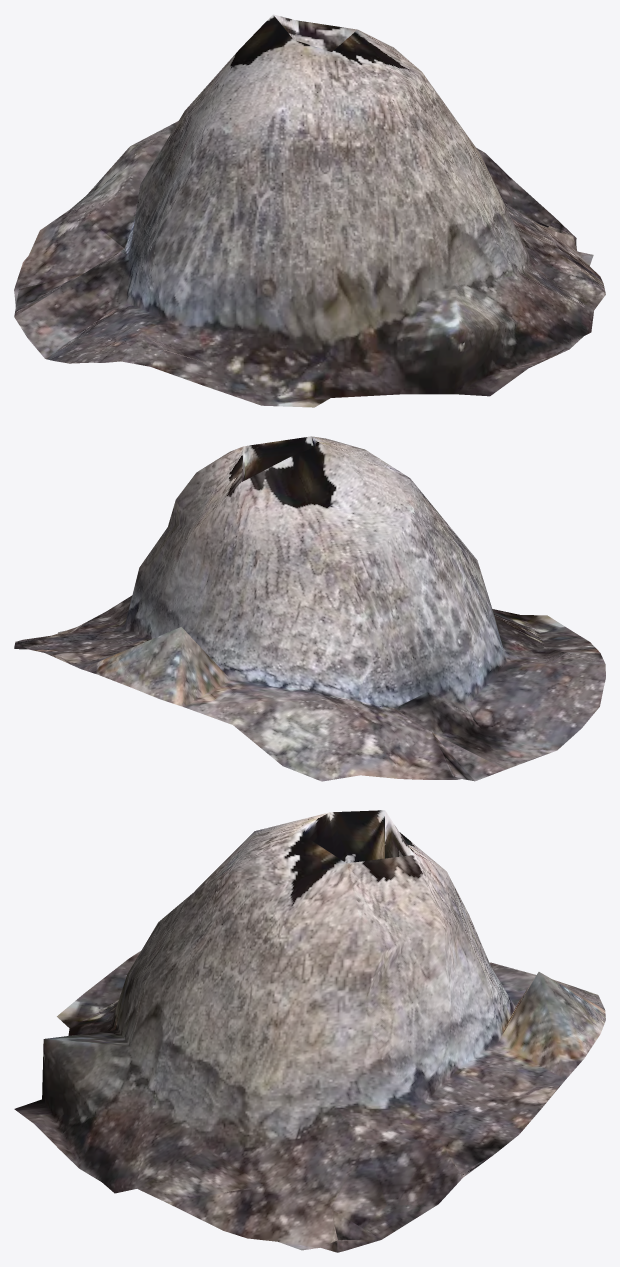
Rendered from barnacle_lo.glb.
The picture shows the model from 3 angles, top to bottom: view 1: azimuth 30°, elevation 25°; view 2: azimuth 150°, elevation 25°; view 3: azimuth 270°, elevation 25°; orthographic projection. The views are drawn at different scales.
Parts seen in each view (by area): view 1: barnacle_far; view 2: barnacle_far; view 3: barnacle_far.
Part boxes in pixels (left/top/right/bottom): barnacle_far: left=14, top=14, right=605, bottom=407; barnacle_far: left=14, top=436, right=605, bottom=781; barnacle_far: left=14, top=810, right=605, bottom=1252.
Bounding box in the file's own units: 0.0395 × 0.0194 × 0.035.
1 material, 1 textured.
